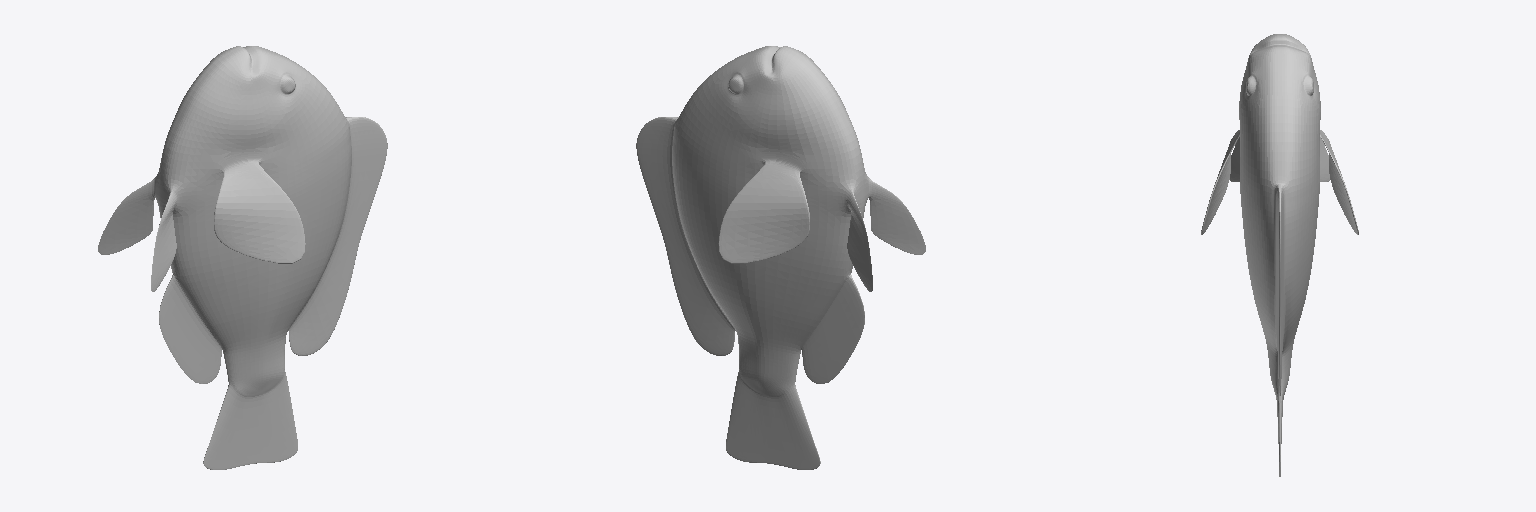
File: fisi6.obj
3 renders of one model, left to right at view 1: azimuth 30°, elevation 25°; view 2: azimuth 150°, elevation 25°; view 3: azimuth 270°, elevation 25°, orthographic.
Visible parts, largest first — view 1: 12265_Fish_v1_L2; view 2: 12265_Fish_v1_L2; view 3: 12265_Fish_v1_L2.
Part boxes in pixels (left/top/right/bottom): 12265_Fish_v1_L2: left=98, top=46, right=387, bottom=469; 12265_Fish_v1_L2: left=636, top=46, right=925, bottom=469; 12265_Fish_v1_L2: left=1201, top=34, right=1358, bottom=476.
Bounding box in the file's own units: 2.24 × 3.44 × 1.16.